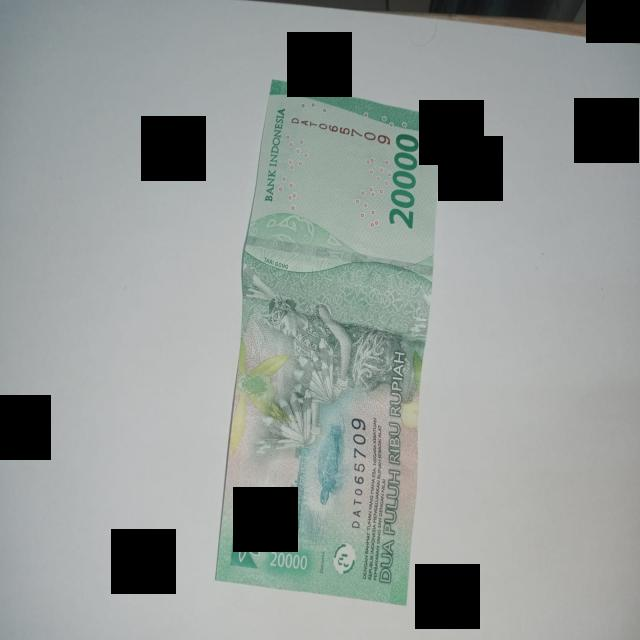dua puluh ribu rupiah: (216, 80, 441, 604)
